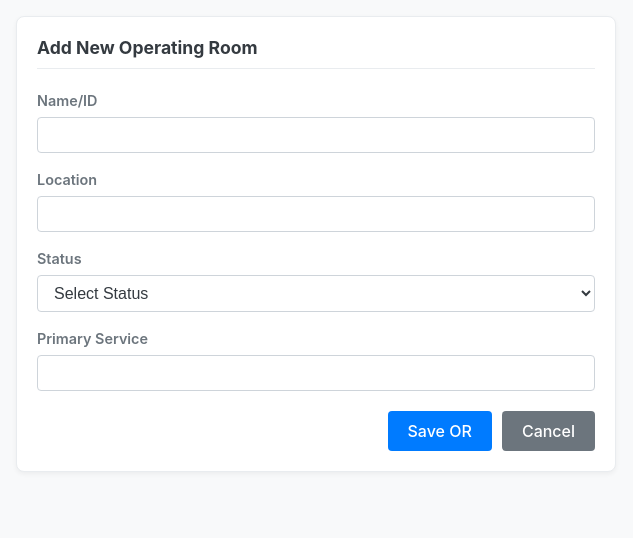
Test: AddOrForm › clears validation errors on input
// Submit once to show errors
Submit the form, box [37,89,595,451]
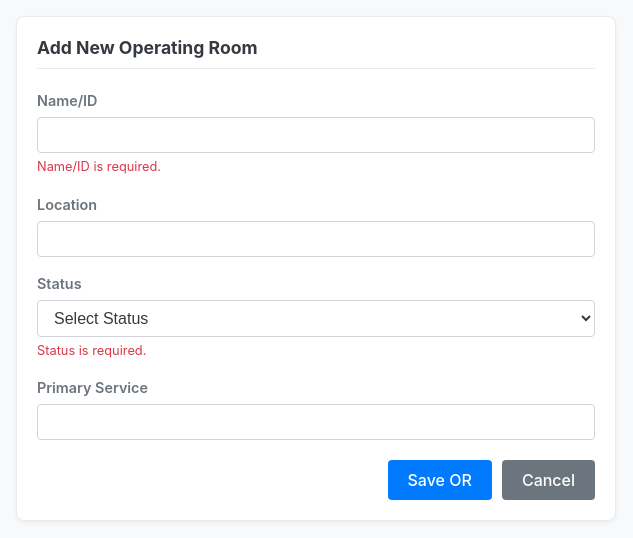
Check: the text "Name/ID is required." is shown, box [37,159,161,174]
// Enter value and check if error clears
In the field with id "or-name": (316, 135) [37,117,595,153], type "Some OR Name"
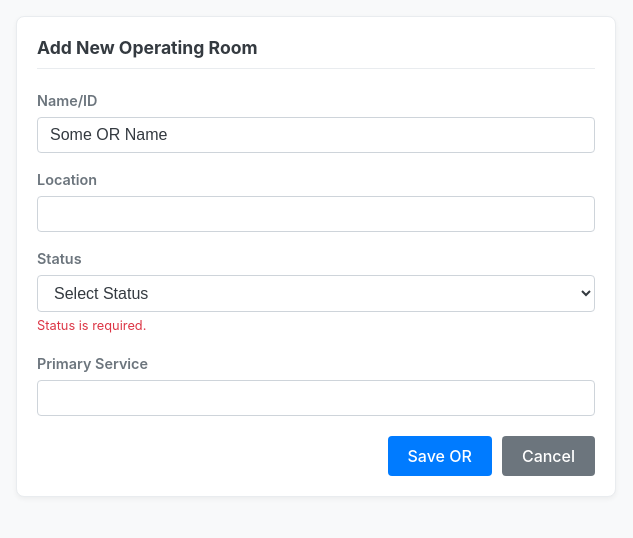
Check: the text "Name/ID is required." is gone
// Also check for status error clearing
Select "Active" in the dropdown with id "or-status": (316, 294) [37,275,595,312]
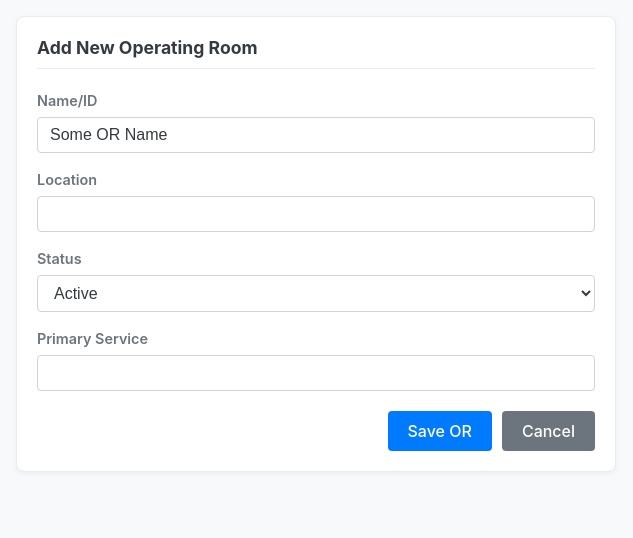
Check: the text "Status is required." is gone
